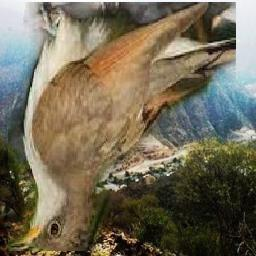Cuckoo: (8, 3, 236, 252)
